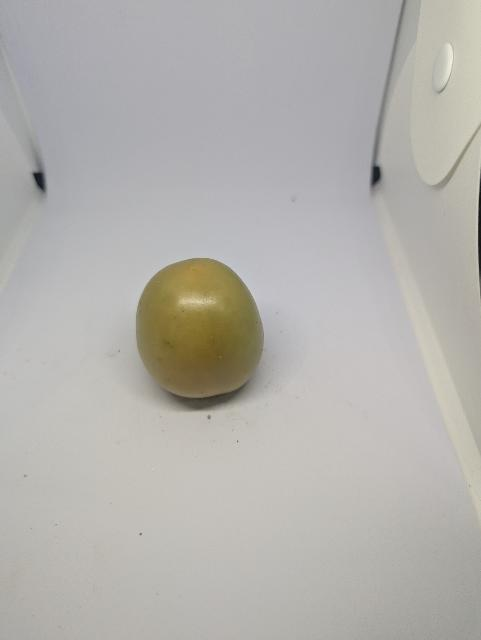breaker: (136, 258, 264, 398)
